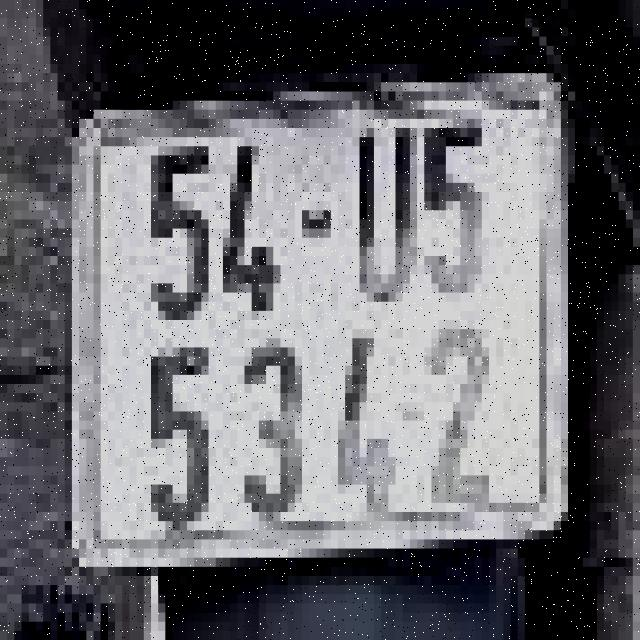2: (417, 311, 518, 512)
3: (234, 334, 313, 526)
4: (327, 315, 406, 526), (220, 146, 292, 320)
5: (129, 338, 216, 540), (137, 132, 216, 334), (417, 114, 496, 297)
U: (342, 115, 421, 306)
